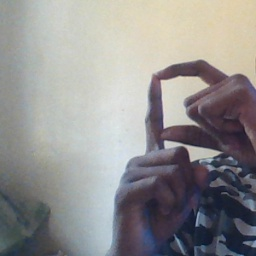D: (126, 55, 248, 174)
